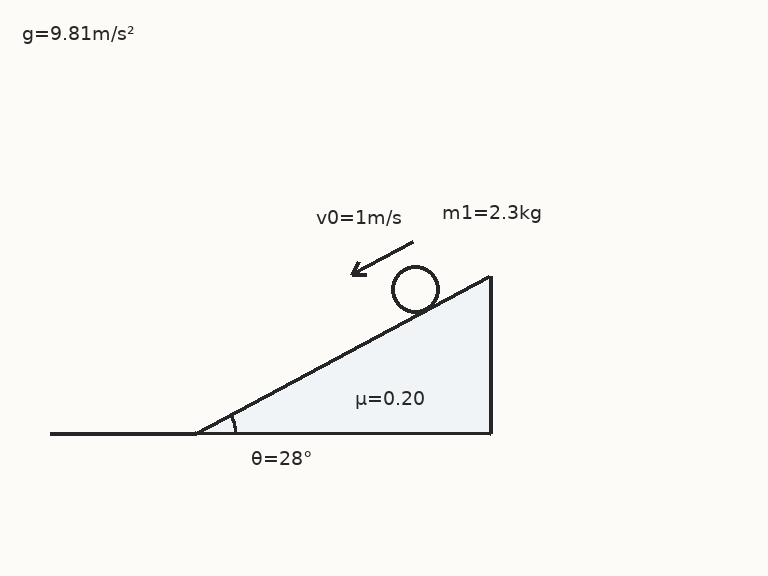ball: (389, 263, 441, 315)
ramp: (193, 274, 492, 435)
